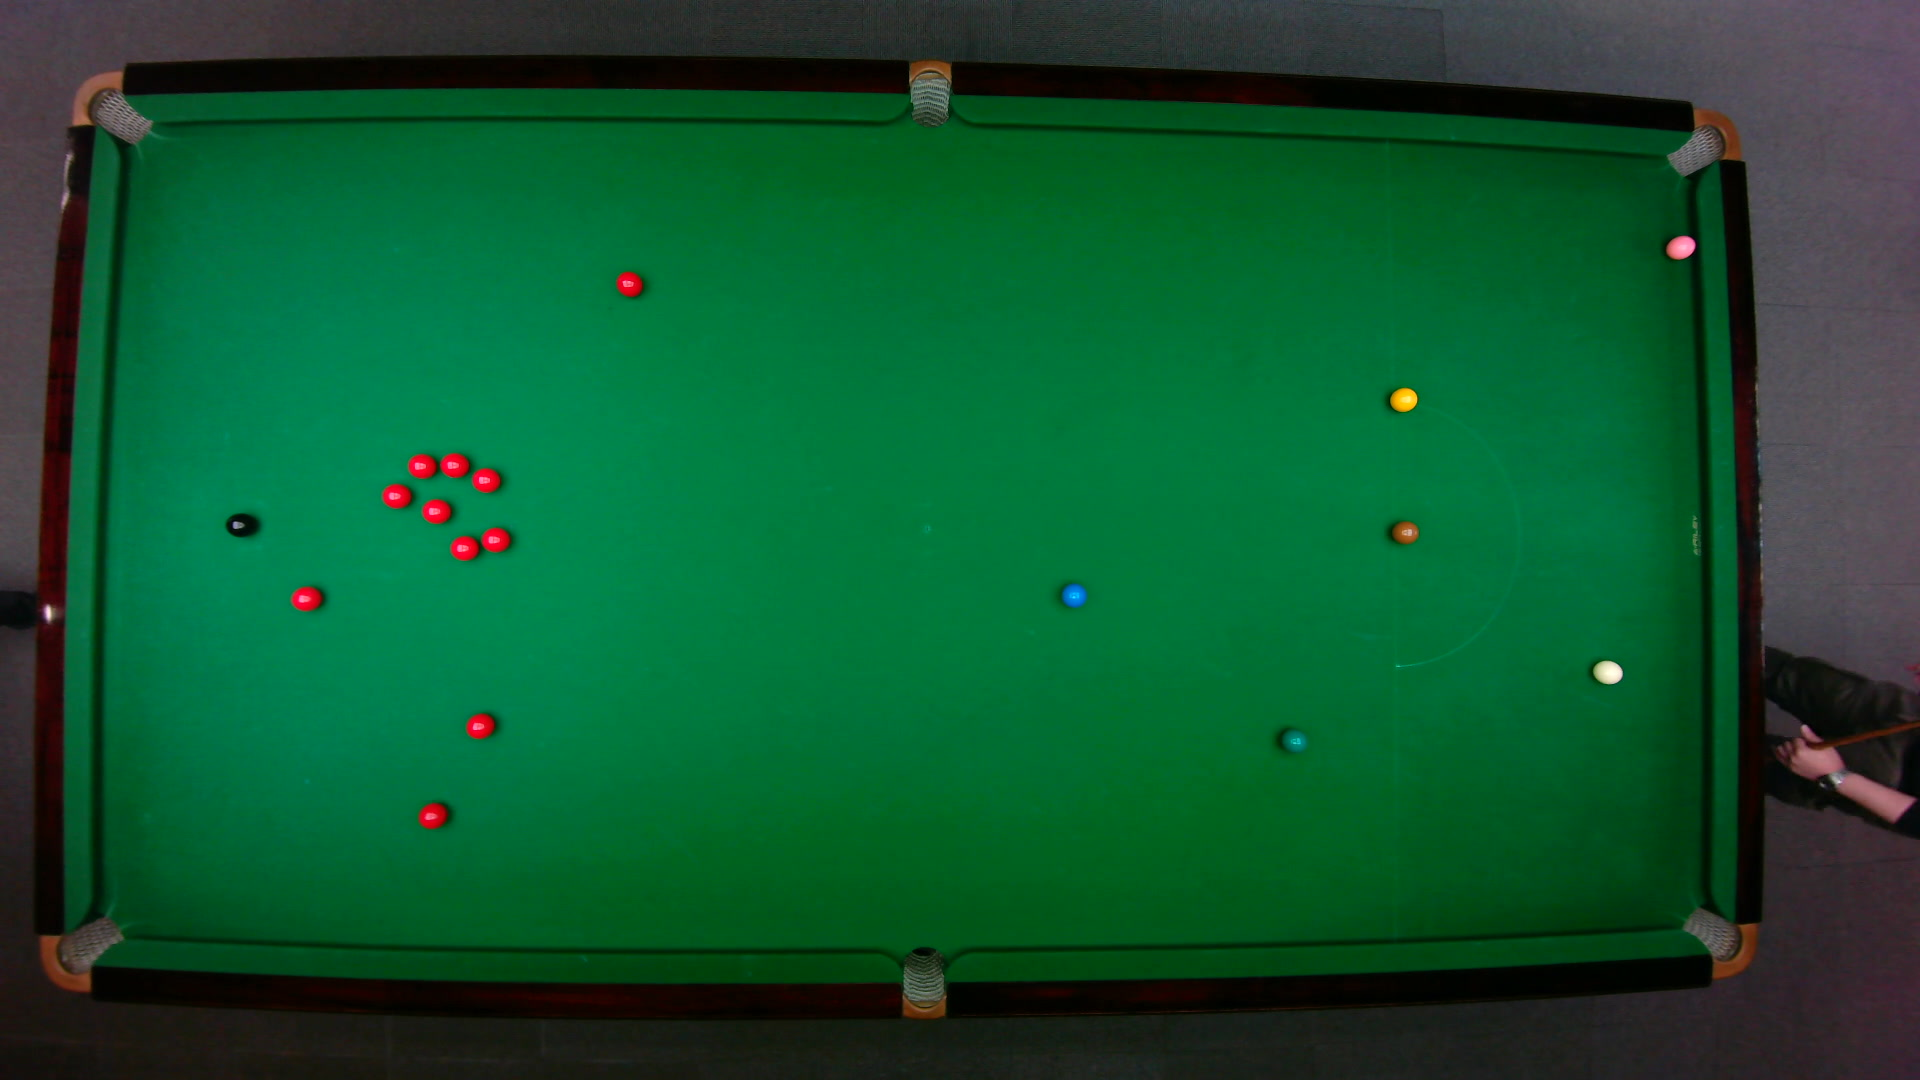bag: (37, 913, 125, 993), (69, 69, 153, 145), (1679, 905, 1756, 978), (1663, 107, 1741, 177), (901, 944, 944, 1021), (909, 57, 949, 128)
black: (223, 512, 256, 537)
blue: (1059, 582, 1087, 608)
brown: (1389, 520, 1419, 545)
green: (1278, 727, 1308, 753)
pink: (1663, 232, 1697, 260)
red: (415, 800, 450, 829), (289, 583, 323, 612), (480, 525, 512, 553), (464, 711, 496, 738), (469, 465, 501, 493), (419, 497, 452, 524), (615, 269, 644, 297), (448, 534, 479, 560), (439, 451, 469, 477), (380, 483, 411, 508), (406, 452, 436, 477)
white: (1590, 658, 1625, 684)
yellow: (1387, 385, 1418, 411)
zone: (1390, 401, 1520, 669)
